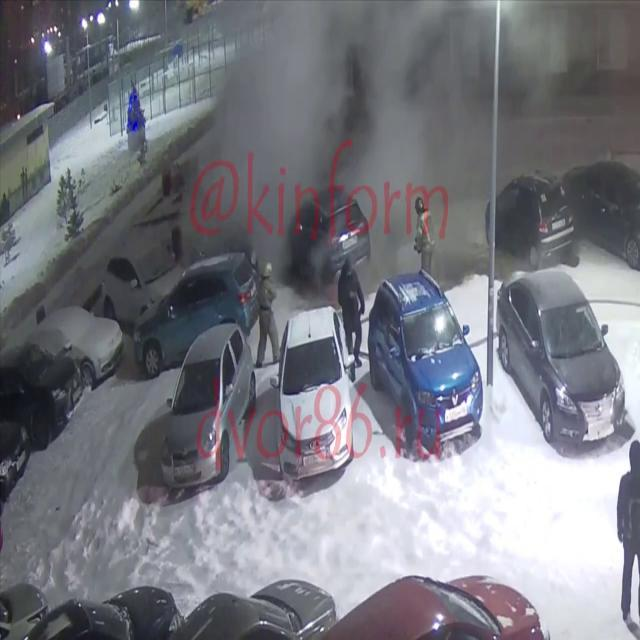Smoke: (175, 1, 624, 307)
